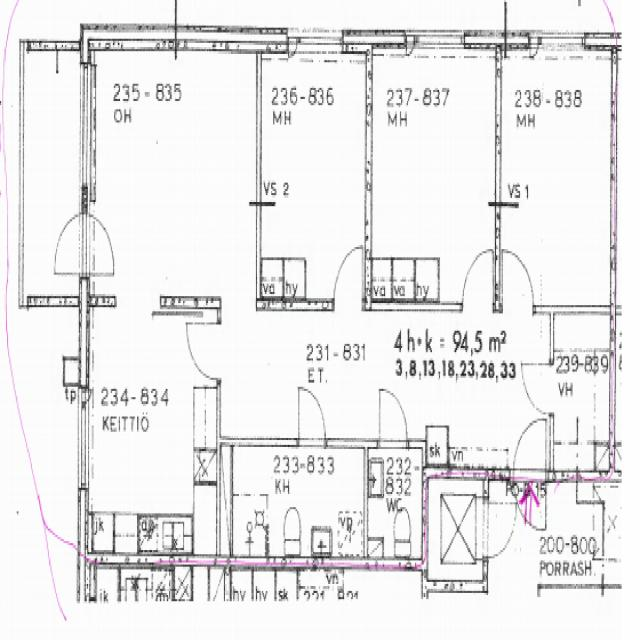door: (46, 214, 88, 276), (79, 214, 121, 276), (514, 408, 546, 478), (514, 468, 546, 538), (503, 242, 534, 310), (462, 243, 493, 310), (186, 324, 220, 380), (334, 246, 363, 310), (522, 364, 554, 416), (380, 390, 407, 450), (299, 390, 325, 450)
